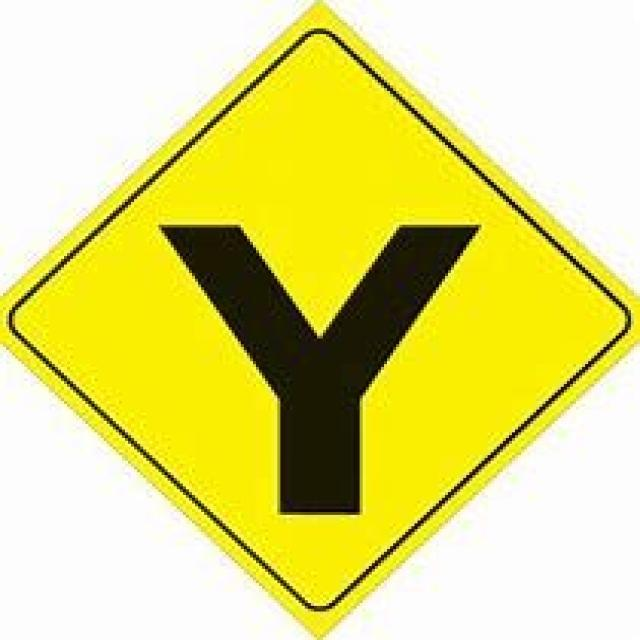y intersection: (20, 28, 615, 604)
